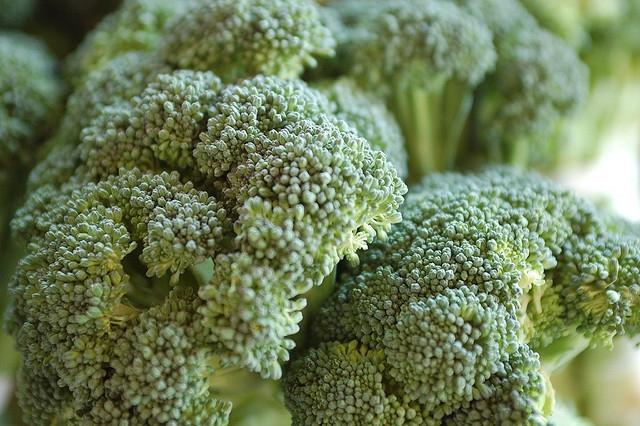broccoli: (280, 162, 639, 426), (298, 0, 501, 187), (454, 0, 592, 175), (81, 167, 236, 309), (62, 69, 224, 194), (520, 0, 640, 168), (194, 73, 356, 191), (0, 27, 73, 249), (152, 1, 338, 86), (61, 1, 208, 94), (309, 75, 409, 179)
